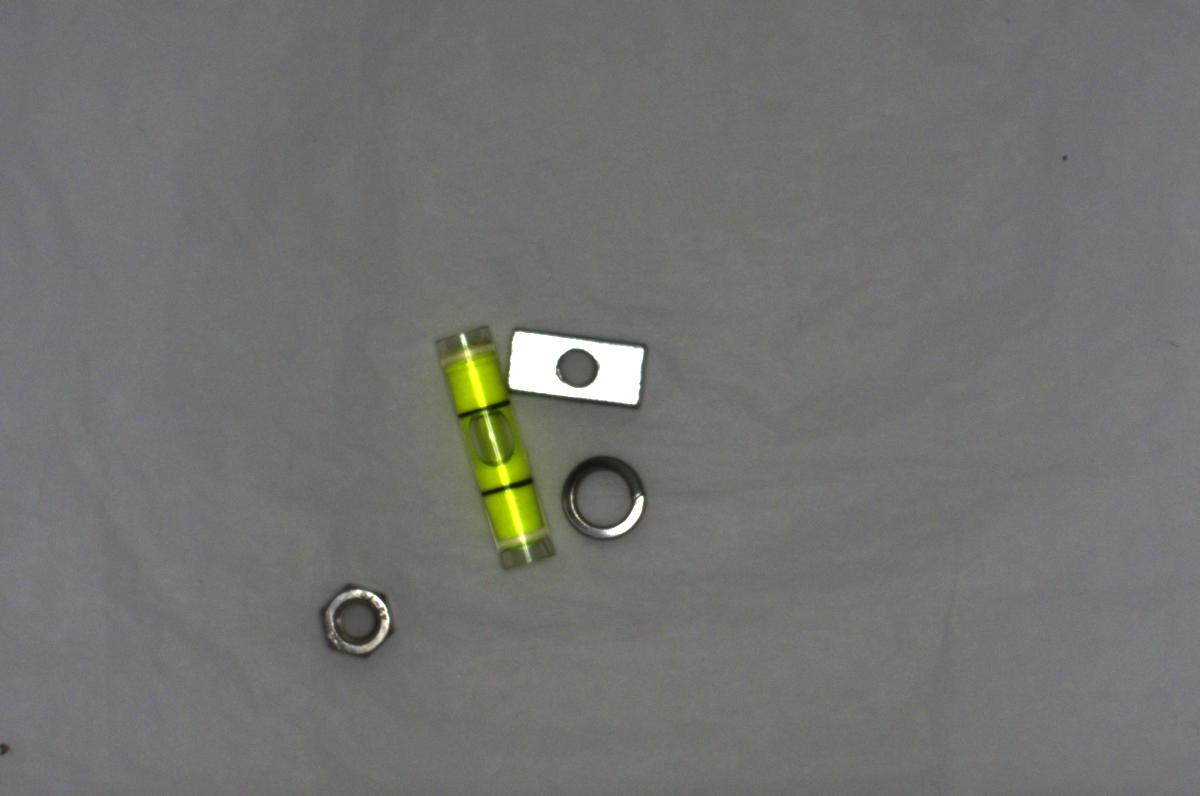Hexagon nut: (315, 566, 404, 663)
Horizontal bubble: (430, 315, 560, 579)
Rectangular nut: (500, 323, 648, 407)
Spring washer: (554, 450, 651, 540)
